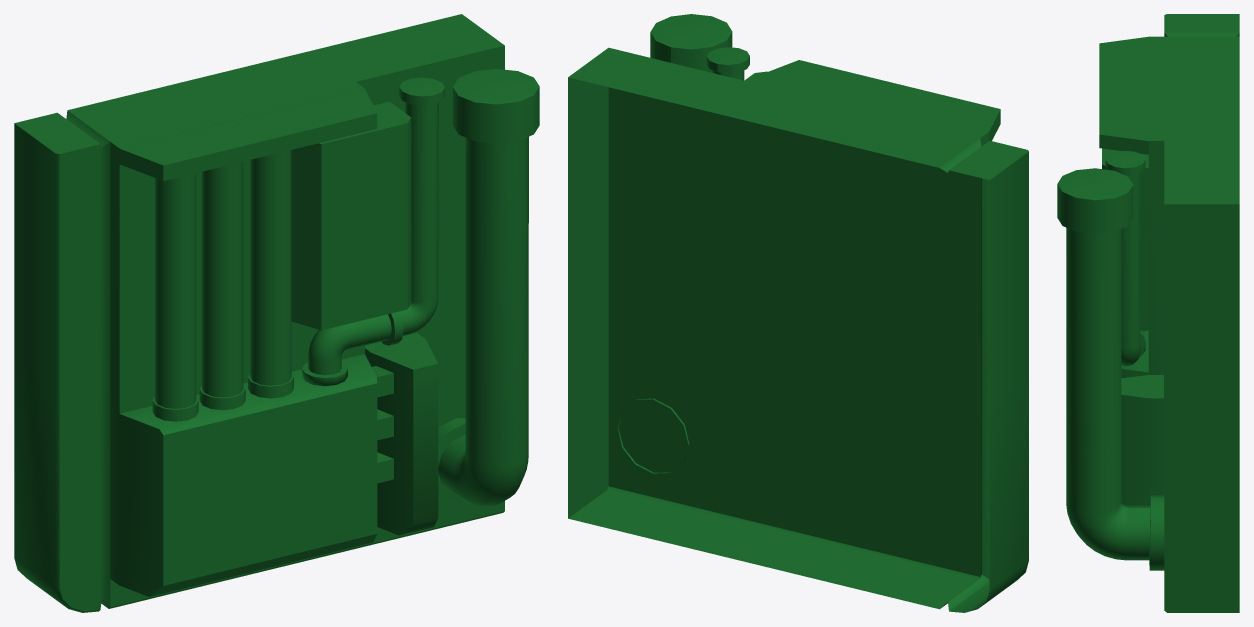
File: BuildingPaneling01.fbx
3 renders of one model, left to right at view 1: azimuth 30°, elevation 25°; view 2: azimuth 150°, elevation 25°; view 3: azimuth 270°, elevation 25°, orthographic. The views are drawn at different scales.
Visible parts, largest first — view 1: BuildingPaneling01; view 2: BuildingPaneling01; view 3: BuildingPaneling01.
Boxes of the visible parts, <box> form: BuildingPaneling01: <box>14,14,539,612</box>; BuildingPaneling01: <box>568,14,1028,612</box>; BuildingPaneling01: <box>1057,14,1239,612</box>.
Bounding box in the file's own units: 300 × 301 × 121.
